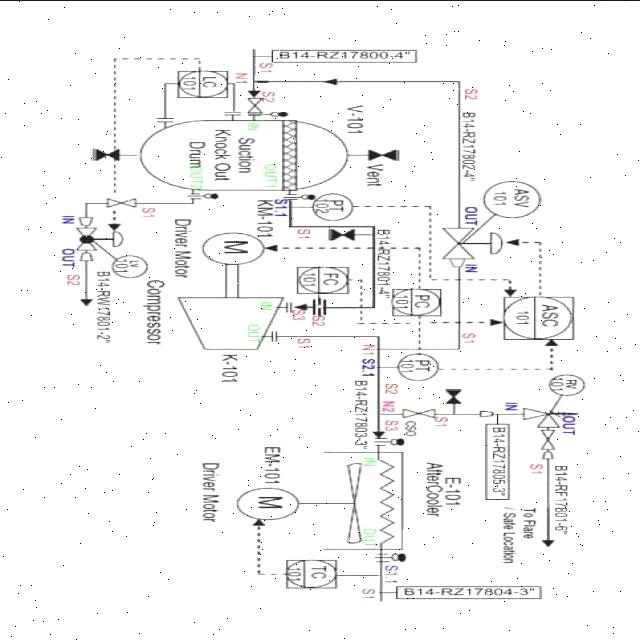Bleeder Valve: (357, 144, 405, 160), (322, 228, 369, 243), (94, 146, 136, 162)
Closed Gate Valve: (444, 384, 472, 406)
Gate Valve: (531, 428, 562, 450), (399, 404, 436, 418), (104, 197, 140, 207), (244, 97, 264, 113)
PSV: (514, 406, 580, 428)
Pneumatic-Diaphragm Gate Valve: (434, 226, 506, 258)
Pneumatic-Diaphragm Globe Valve: (72, 228, 124, 250)
